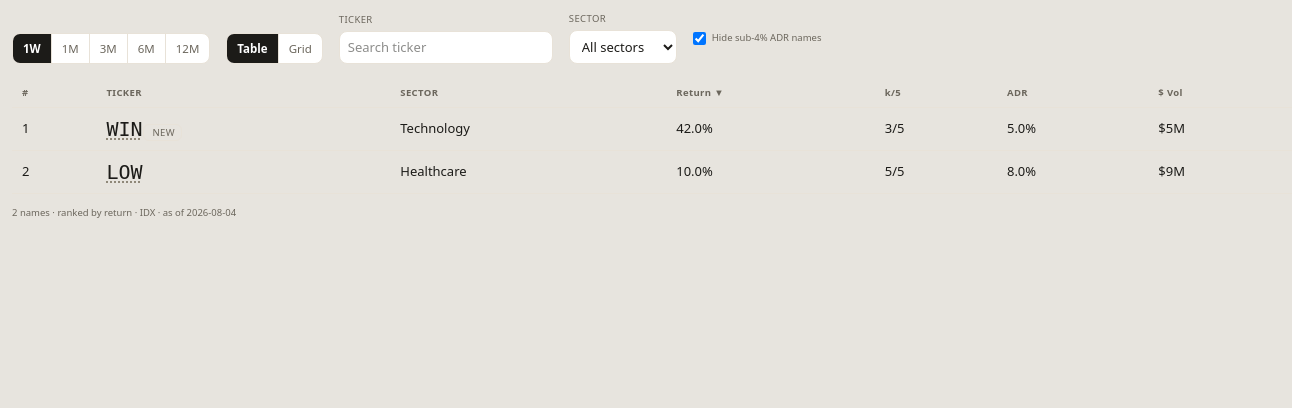
it: the Leaders screen › the table/grid toggle is a radiogroup sharing the same rows (spec §5.3)
expect the table is shown: met, box [12,80,1291,194]
expect the element named "View" is shown: met, box [226,33,323,64]
Click the radio button labelled "Grid": coordinates (300, 49) [278,34,322,63]
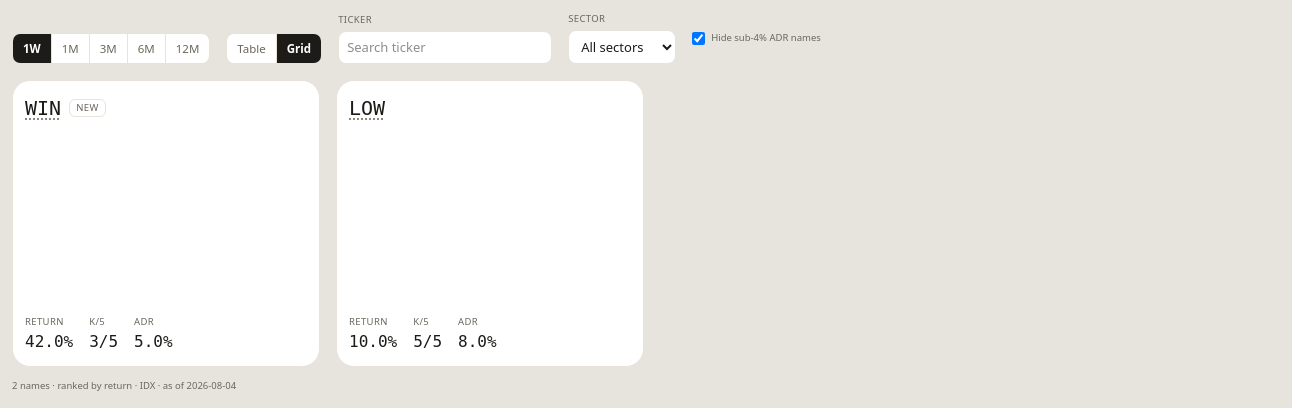
expect the button "WIN" is shown: met, box [25,93,61,123]
expect the table is gone: met
